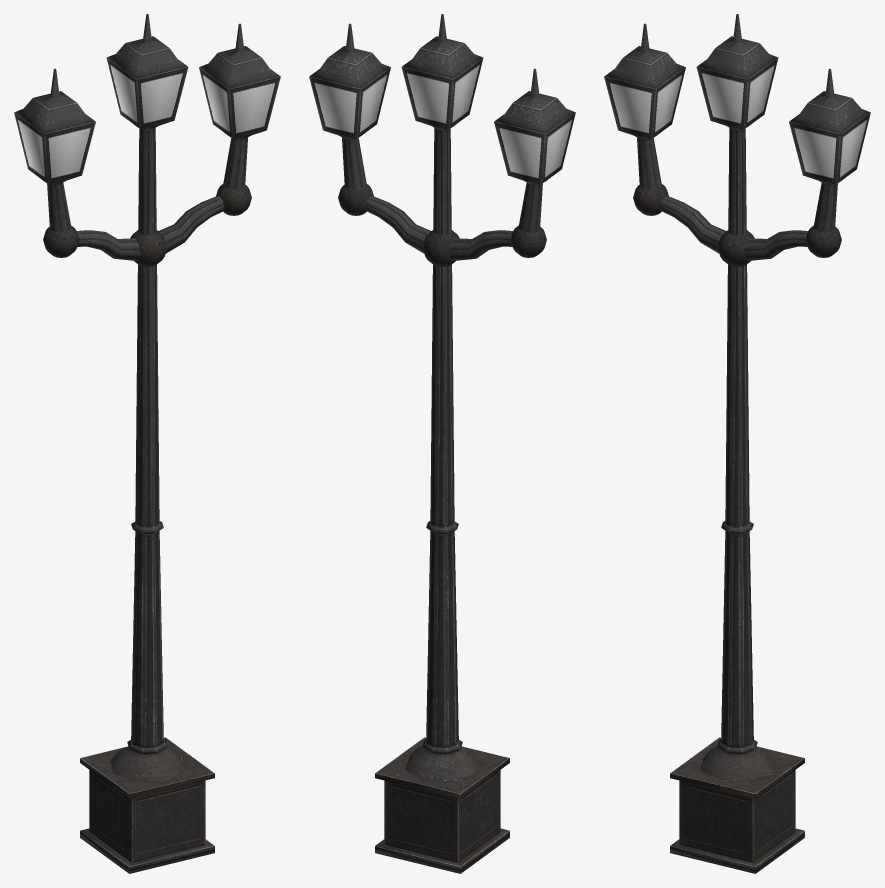
Rendered from lamppost.fbx.
3 renders of one model, left to right at view 1: azimuth 30°, elevation 25°; view 2: azimuth 150°, elevation 25°; view 3: azimuth 330°, elevation 25°, orthographic.
Visible parts, largest first — view 1: lamppost; view 2: lamppost; view 3: lamppost.
Boxes of the visible parts, x1,y1,x2,y2 form: lamppost: (14,14,280,873); lamppost: (309,14,575,873); lamppost: (604,14,870,873).
Size of the model in its own units: 123 by 412 by 44.4.
Materials: 1 (1 with a texture image).
